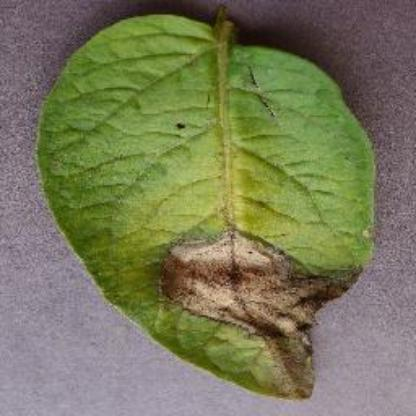Late-Blight: (27, 9, 384, 409)
